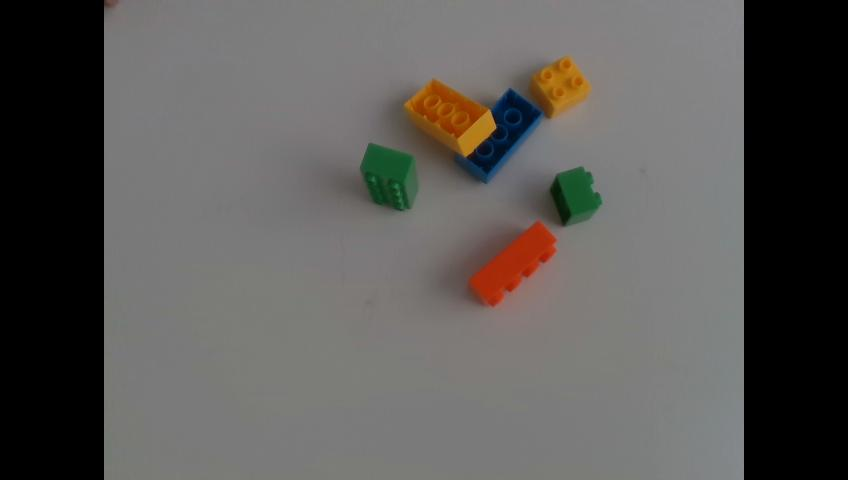2x2_green: (552, 165, 603, 225)
2x2_yellow: (529, 55, 591, 119)
4x2_blue: (456, 87, 543, 182)
4x2_green: (360, 142, 419, 210)
4x2_orange: (471, 219, 555, 305)
4x2_yellow: (401, 78, 496, 157)
